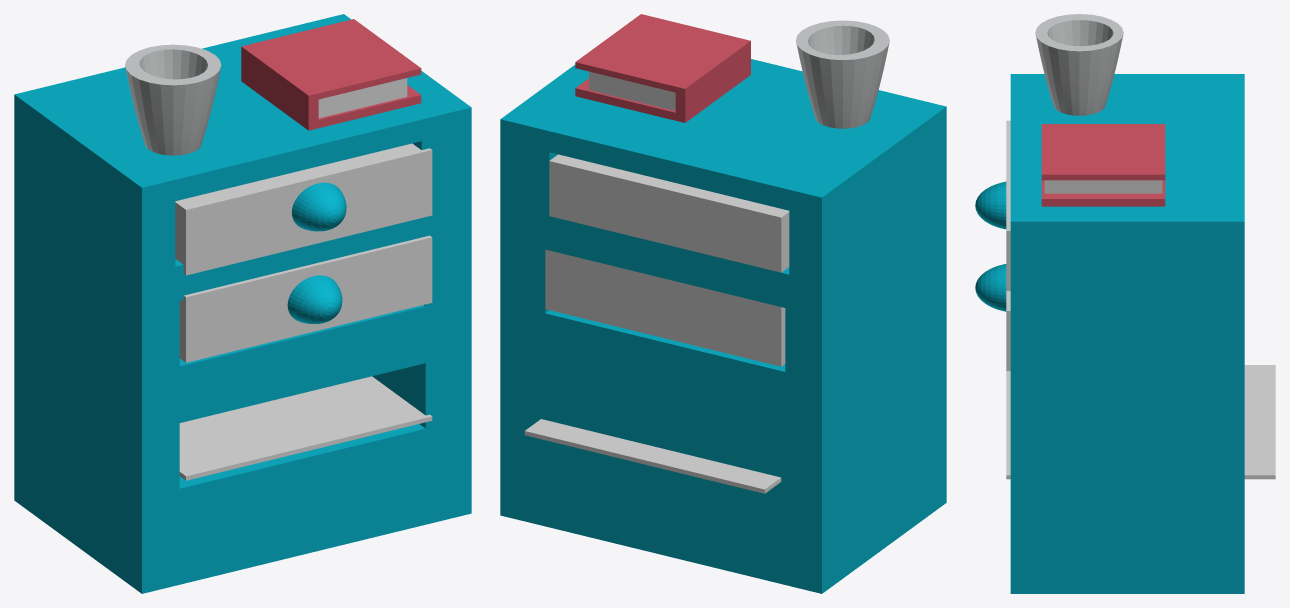
Rendered from Fabulous Gaaris-Amur.glb.
3 views of the same model, side by side, from view 1: azimuth 30°, elevation 25°; view 2: azimuth 150°, elevation 25°; view 3: azimuth 270°, elevation 25° (orthographic). The views are drawn at different scales.
Visible parts, largest first — view 1: Mesh_Mesh_head_geo.001_lambert2SG.001; view 2: Mesh_Mesh_head_geo.001_lambert2SG.001; view 3: Mesh_Mesh_head_geo.001_lambert2SG.001.
Boxes of the visible parts, x1,y1,x2,y2 form: Mesh_Mesh_head_geo.001_lambert2SG.001: (14,14,471,593); Mesh_Mesh_head_geo.001_lambert2SG.001: (500,14,946,593); Mesh_Mesh_head_geo.001_lambert2SG.001: (975,14,1275,593).
Bounding box in the file's own units: 79 × 111 × 68.
